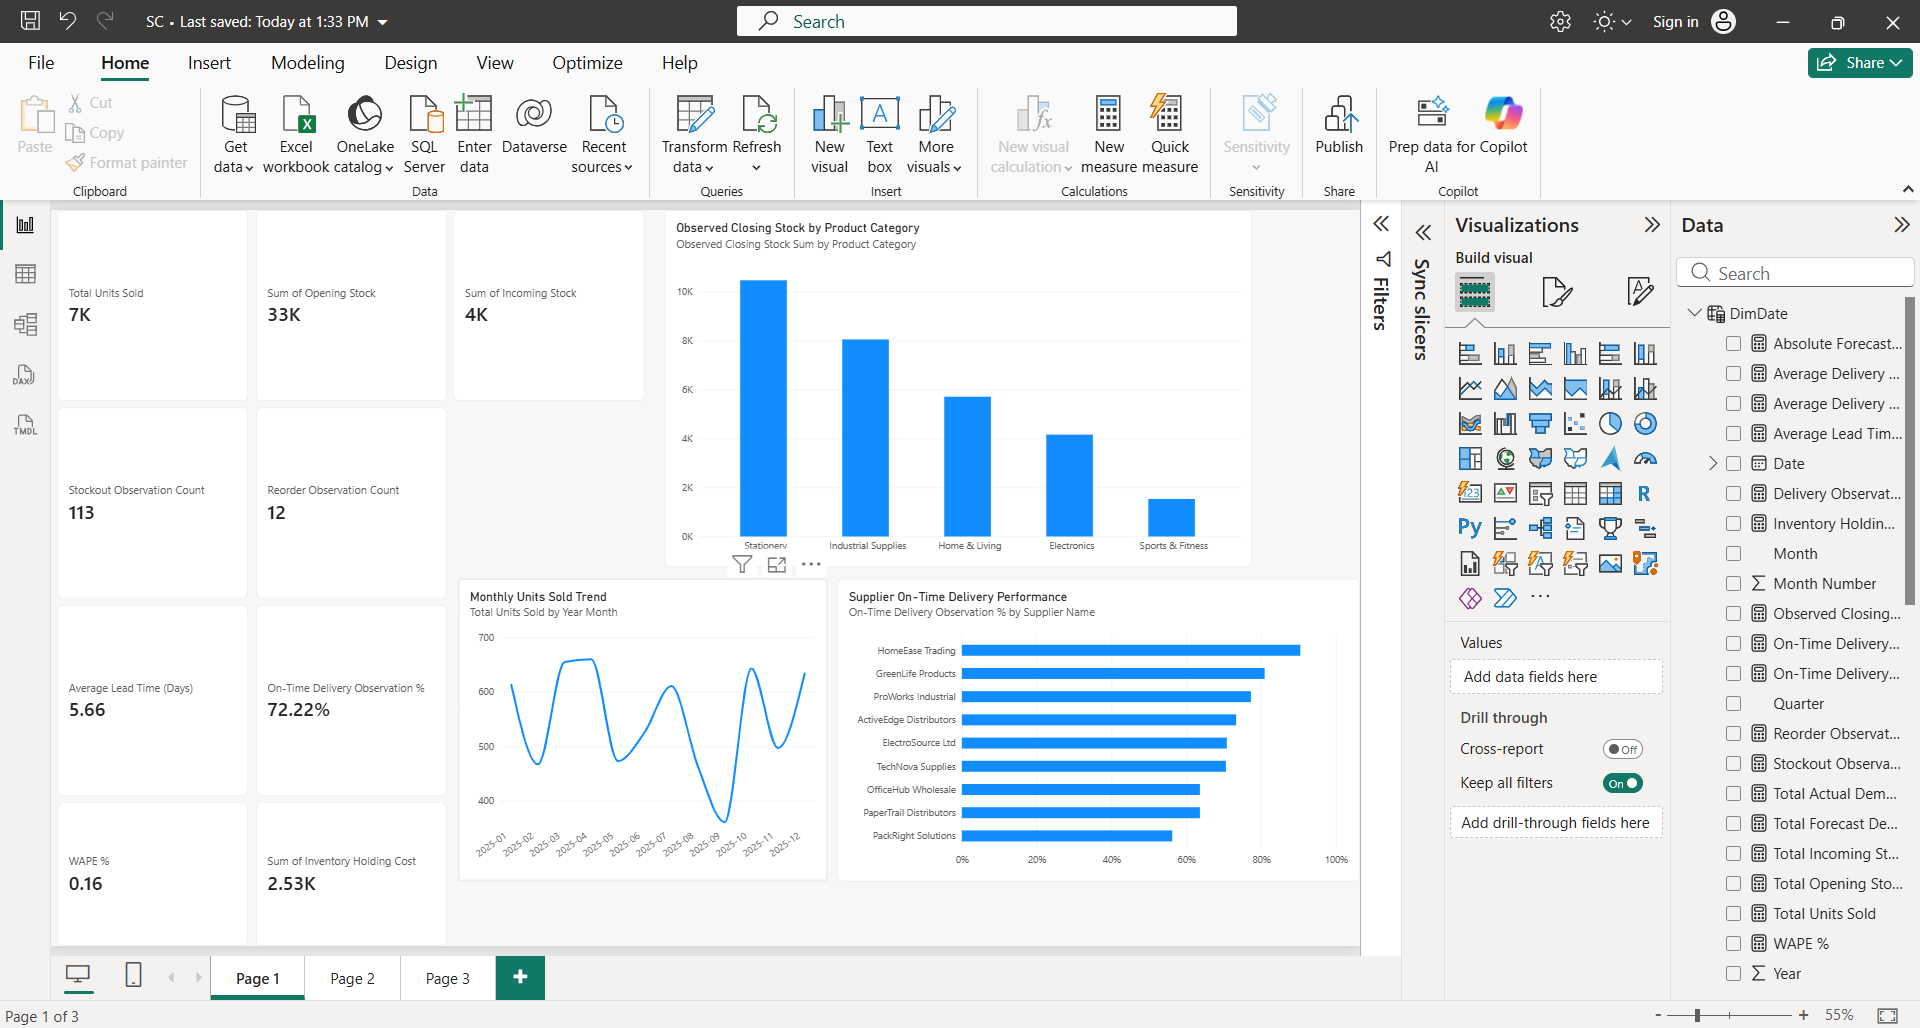

Layout of this report page (visuals, bound fields, positions):
{"tool":"powerbi","page":{"name":"Page 1","canvas":[1920,1080],"ordinal":0},"visuals":[{"type":"cardVisual","fields":{"Data":["DimDate.Total Units Sold"]},"box":[10,0,280,280],"z":0},{"type":"cardVisual","fields":{"Data":["DimDate.Stockout Observation Count"]},"box":[10,290,280,280],"z":1},{"type":"cardVisual","fields":{"Data":["DimDate.Average Lead Time (Days)"]},"box":[10,580,280,280],"z":2},{"type":"cardVisual","fields":{"Data":["DimDate.WAPE %"]},"box":[10,870,280,210],"z":3},{"type":"cardVisual","fields":{"Data":["Sum(FactSupplyChain.Opening Stock)"]},"box":[300,0,280,280],"z":4},{"type":"cardVisual","fields":{"Data":["DimDate.Reorder Observation Count"]},"box":[300,290,280,280],"z":5},{"type":"cardVisual","fields":{"Data":["DimDate.On-Time Delivery Observation %"]},"box":[300,580,280,280],"z":6},{"type":"cardVisual","fields":{"Data":["Sum(FactSupplyChain.Inventory Holding Cost)"]},"box":[300,870,280,210],"z":7},{"type":"cardVisual","fields":{"Data":["Sum(FactSupplyChain.Incoming Stock)"]},"box":[590,0,280,280],"z":8},{"type":"clusteredColumnChart","title":"Observed Closing Stock by Product Category","fields":{"Category":["FactSupplyChain.Product Category"],"Y":["DimDate.Observed Closing Stock Sum"]},"box":[900.4,0,861.3,524.2],"z":9},{"type":"clusteredBarChart","title":"Supplier On-Time Delivery Performance","fields":{"Category":["FactSupplyChain.Supplier Name"],"Y":["DimDate.On-Time Delivery Observation %"]},"box":[1153.2,540.6,766.8,444],"z":10},{"type":"lineChart","title":"Monthly Units Sold Trend","fields":{"Category":["DimDate.Year Month"],"Y":["DimDate.Total Units Sold"]},"box":[598.2,540.6,540.6,444],"z":11}]}

Visuals, with their boxes on the page's 1920x1080 design canvas (x1, y1, x2, y2). These are canvas units, not pixel positions in the 1920x1028 screenshot, which may show the page scaled, cropped or inside an application window:
cardVisual - DimDate.Total Units Sold: BBox(10, 0, 290, 280)
cardVisual - DimDate.Stockout Observation Count: BBox(10, 290, 290, 570)
cardVisual - DimDate.Average Lead Time (Days): BBox(10, 580, 290, 860)
cardVisual - DimDate.WAPE %: BBox(10, 870, 290, 1080)
cardVisual - Sum(FactSupplyChain.Opening Stock): BBox(300, 0, 580, 280)
cardVisual - DimDate.Reorder Observation Count: BBox(300, 290, 580, 570)
cardVisual - DimDate.On-Time Delivery Observation %: BBox(300, 580, 580, 860)
cardVisual - Sum(FactSupplyChain.Inventory Holding Cost): BBox(300, 870, 580, 1080)
cardVisual - Sum(FactSupplyChain.Incoming Stock): BBox(590, 0, 870, 280)
"Observed Closing Stock by Product Category" clusteredColumnChart: BBox(900, 0, 1762, 524)
"Supplier On-Time Delivery Performance" clusteredBarChart: BBox(1153, 541, 1920, 985)
"Monthly Units Sold Trend" lineChart: BBox(598, 541, 1139, 985)
